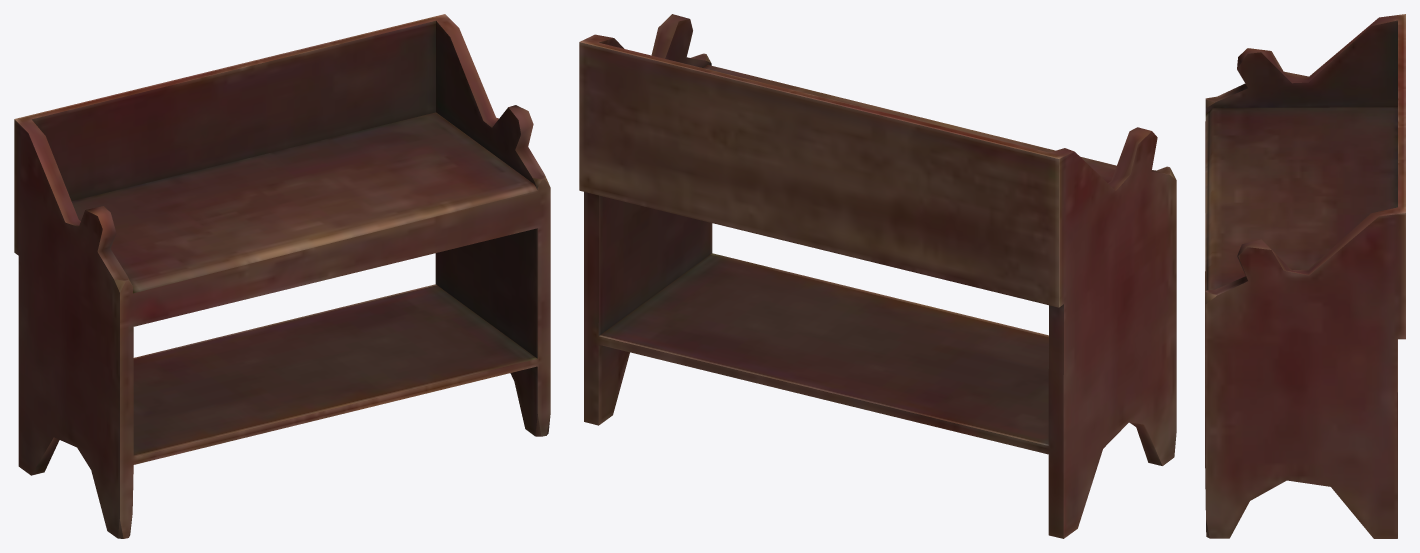
File: banc_bois_lod1.glb
The picture shows the model from 3 angles, left to right: view 1: azimuth 30°, elevation 25°; view 2: azimuth 150°, elevation 25°; view 3: azimuth 270°, elevation 25°; orthographic projection. The views are drawn at different scales.
Visible parts, largest first — view 1: painted_wooden_bench; view 2: painted_wooden_bench; view 3: painted_wooden_bench.
Part boxes in pixels (bbox=[...]): painted_wooden_bench: bbox=[14, 14, 550, 538]; painted_wooden_bench: bbox=[579, 14, 1176, 538]; painted_wooden_bench: bbox=[1205, 14, 1405, 538].
Size of the model in its own units: 1.16 by 0.8893 by 0.4965.
1 material, 1 textured.
